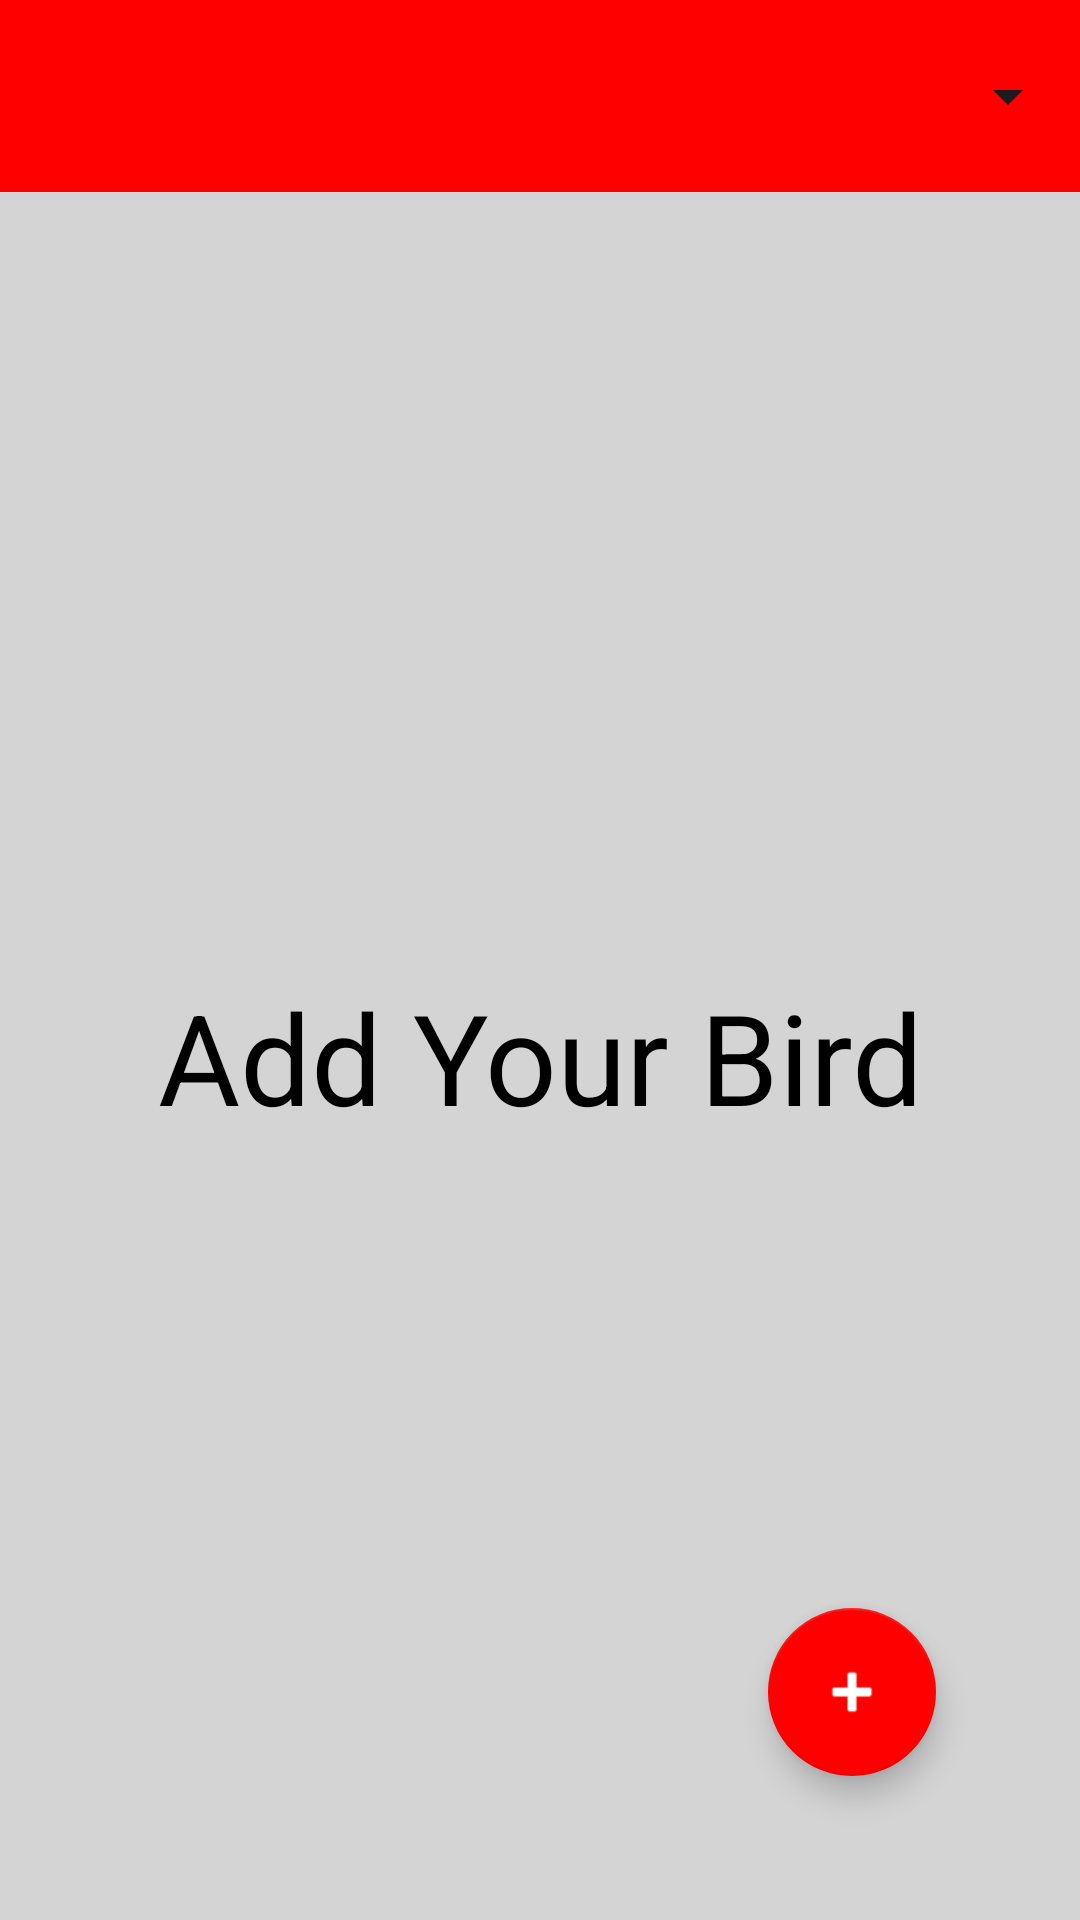

Icons on this 1080w x 1920h Android screen, each with its box as [x1=x1, y1=y1, x2=x2, y2=y2]:
add: [x1=768, y1=1608, x2=936, y2=1776]
